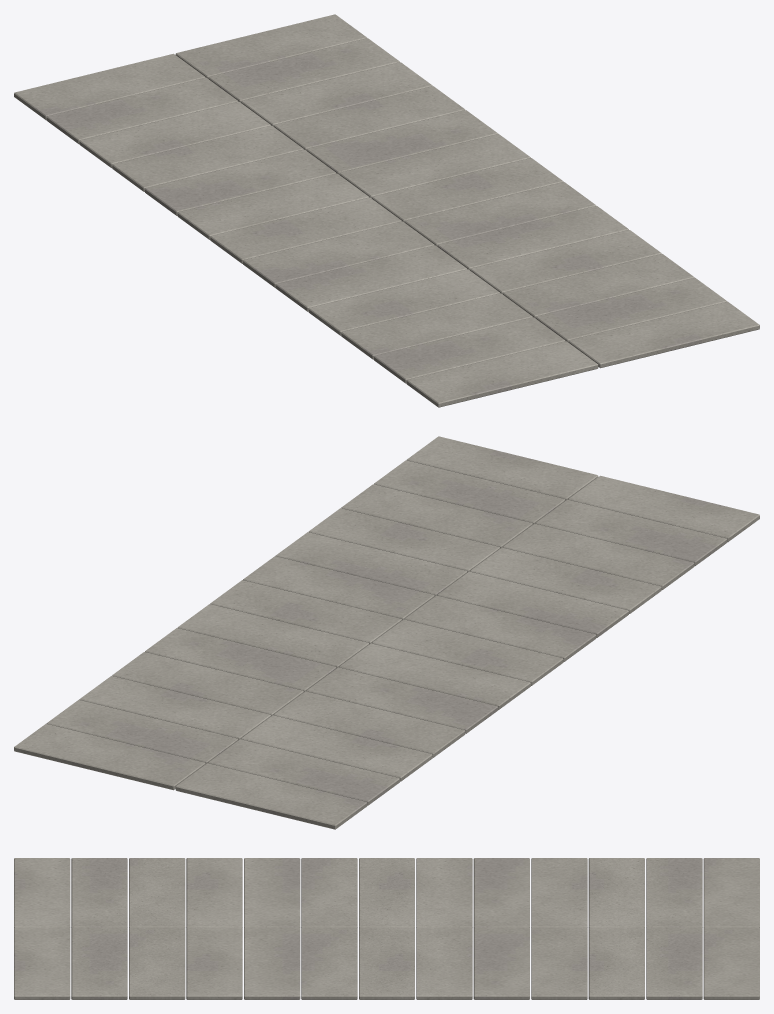
File: path_gate.glb
3 views of the same model, one above another, from view 1: azimuth 30°, elevation 25°; view 2: azimuth 150°, elevation 25°; view 3: azimuth 270°, elevation 25° (orthographic). The views are drawn at different scales.
Parts seen in each view (by area): view 1: path_gate_concrete; view 2: path_gate_concrete; view 3: path_gate_concrete.
Boxes of the visible parts, bbox=[...] form: path_gate_concrete: bbox=[14, 14, 759, 407]; path_gate_concrete: bbox=[14, 436, 759, 829]; path_gate_concrete: bbox=[14, 858, 759, 999].
Bounding box in the file's own units: 3.39 × 0.05 × 7.74.
1 material, 1 textured.
